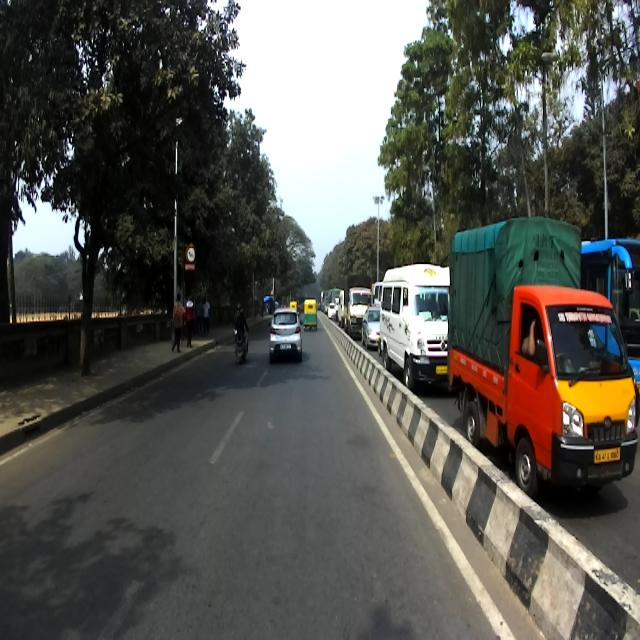tree ahead at: (64, 125, 132, 370)
truck ahead at: (450, 217, 640, 508)
